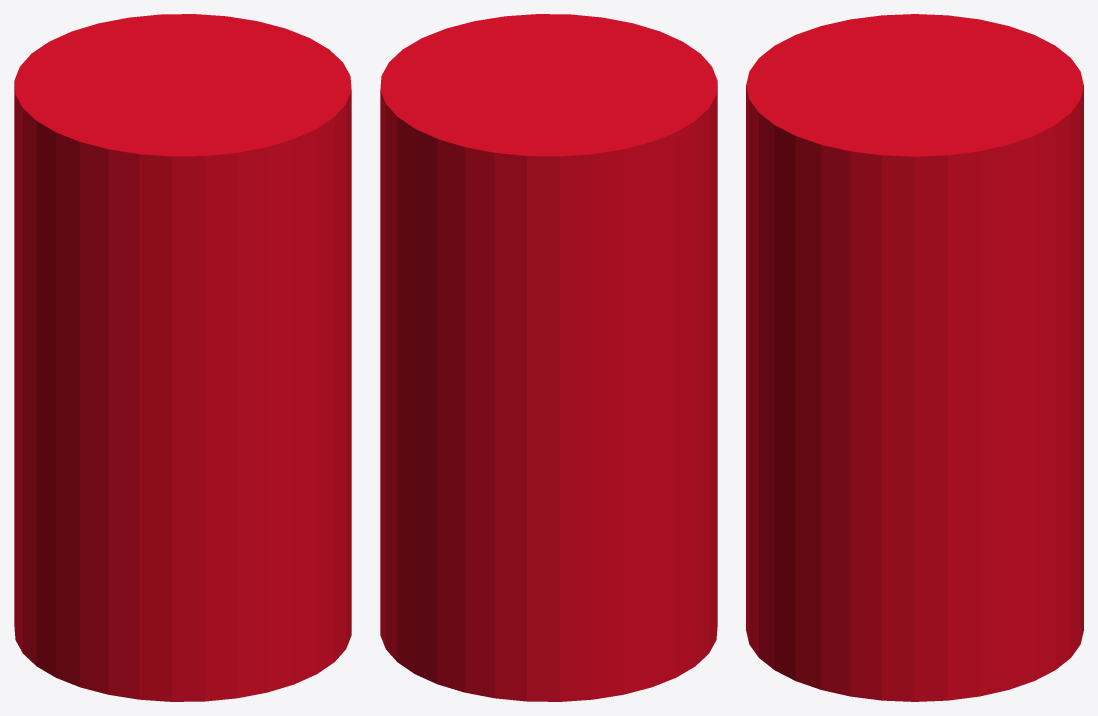
File: player.glb
3 renders of one model, left to right at view 1: azimuth 30°, elevation 25°; view 2: azimuth 150°, elevation 25°; view 3: azimuth 270°, elevation 25°, orthographic.
Visible parts, largest first — view 1: player_01; view 2: player_01; view 3: player_01.
Boxes of the visible parts, box(x1,y1,x2,y2) form: player_01: box(14, 14, 351, 701); player_01: box(380, 14, 717, 701); player_01: box(746, 14, 1083, 701).
Size of the model in its own units: 1 by 1.78 by 1.
